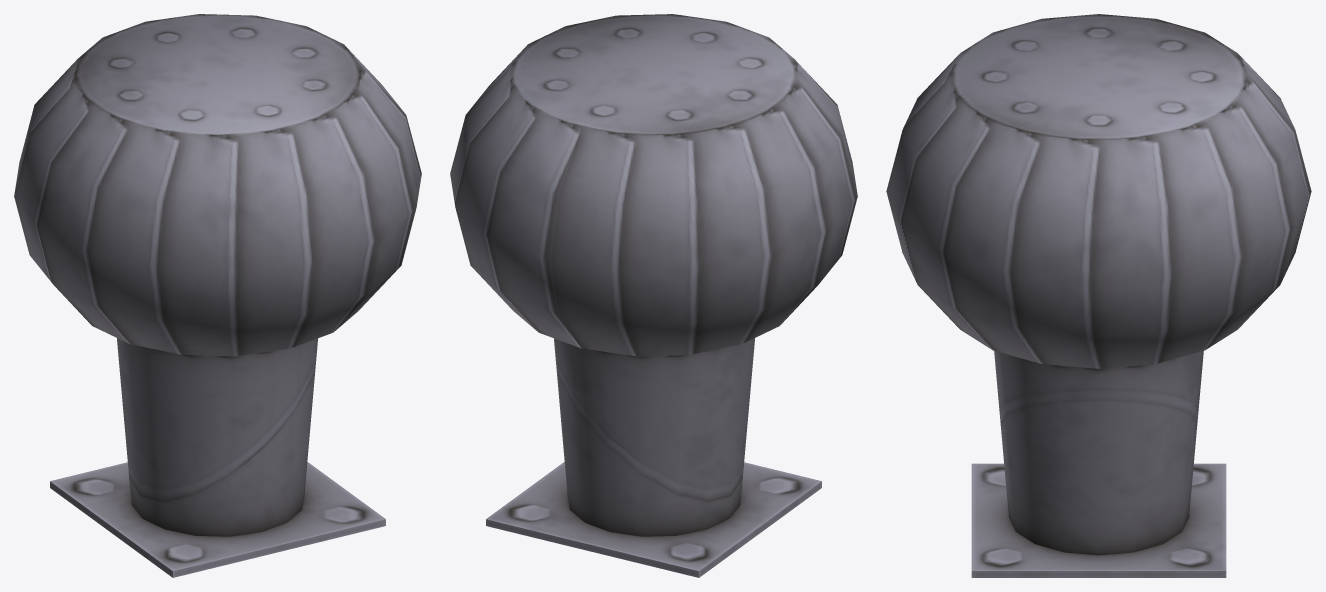
The model's file is RoofVent01_1.FBX.
3 renders of one model, left to right at view 1: azimuth 30°, elevation 25°; view 2: azimuth 150°, elevation 25°; view 3: azimuth 270°, elevation 25°, orthographic. The views are drawn at different scales.
Parts seen in each view (by area): view 1: RoofVent01_1; view 2: RoofVent01_1; view 3: RoofVent01_1.
Boxes of the visible parts, x1,y1,x2,y2 form: RoofVent01_1: (14, 14, 421, 577); RoofVent01_1: (450, 14, 857, 577); RoofVent01_1: (886, 14, 1311, 577).
Size of what is drawn, in the model's own units: 0.8354 by 0.9733 by 0.8355.
